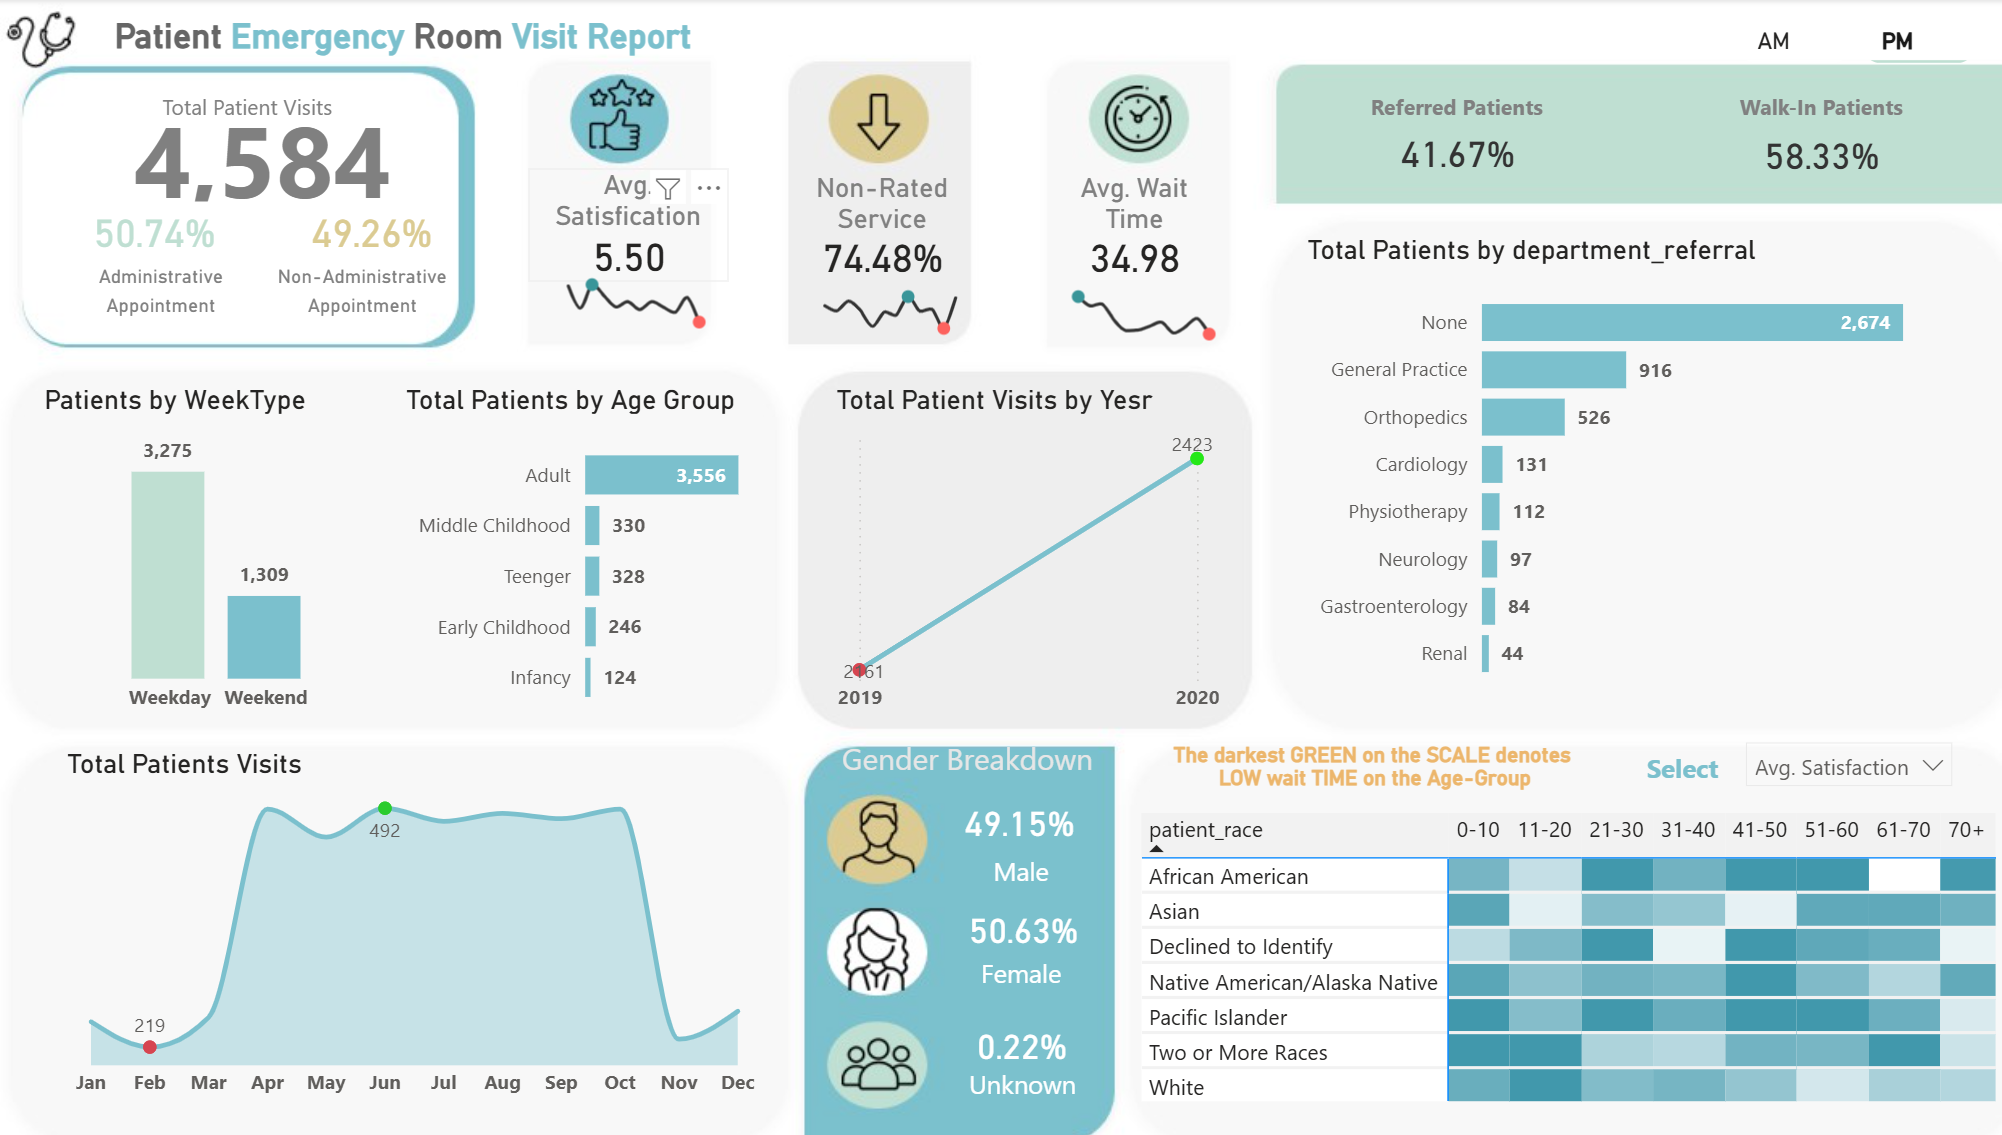

The dashboard page shown, as its layout file describes it:
{"tool":"powerbi","page":{"name":"Page 1","canvas":[1280,720],"ordinal":0},"visuals":[{"type":"cardVisual","fields":{"Data":["Calculation.Total Patients"]},"box":[76.1,32.3,208.3,108.9],"z":0},{"type":"card","fields":{"Values":["Calculation.% Administrative Schedule"]},"box":[66.9,127.2,89.8,38.3],"z":1000},{"type":"card","fields":{"Values":["Calculation.% NonAdministrative Schedule"]},"box":[189,126,118.5,39.5],"z":2000},{"type":"pivotTable","fields":{"Values":["Calculation.Average Satisfaction Score"],"Rows":["Patients Datasets.patient_race"],"Columns":["Patients Datasets.Age Group"]},"box":[726.3,505.3,553.9,192.2],"z":3000},{"type":"slicer","fields":{"Values":["Parameter.Parameter"]},"box":[1100.2,455.8,149.6,40.6],"z":4000},{"type":"clusteredBarChart","fields":{"Category":["Patients Datasets.Age Group"],"Y":["Calculation.Total Patients"]},"box":[265.5,240.8,250.7,215],"z":5000},{"type":"lineChart","title":"Total Patients Visits","fields":{"Category":["Date.Month"],"Y":["Calculation.Total Patients","Calculation.Values Max Point (Month)"]},"box":[52.5,469.7,444.9,227.9],"z":6000},{"type":"lineChart","title":"Total Patient Visits by Yesr","fields":{"Category":["Date.Year"],"Y":["Calculation.Total Patients","Calculation.Values Max Point (Year)"]},"box":[535.1,240.8,249.7,215],"z":7000},{"type":"clusteredBarChart","fields":{"Y":["Calculation.Total Patients"],"Category":["Patients Datasets.department_referral"]},"box":[830.3,146.6,421.1,292.3],"z":8000},{"type":"card","fields":{"Values":["Calculation.% Referred Patients"]},"box":[862.6,75.4,134.1,41.9],"z":9000},{"type":"card","fields":{"Values":["Calculation.% UnReferred Patients"]},"box":[1098.5,77.6,117.9,38.6],"z":10000},{"type":"card","fields":{"Values":["Calculation.HitMap Caption"]},"box":[734.2,457.8,282.4,47.6],"z":11000},{"type":"textbox","box":[61.8,157.6,108.9,51.5],"z":12000},{"type":"textbox","box":[180.3,157.6,124.5,51.5],"z":13000},{"type":"card","title":"Avg. Satisfication","fields":{"Values":["Calculation.Average Satisfaction Score"]},"box":[346.8,106,124.8,70.3],"z":14000},{"type":"card","title":"Non-Rated Service","fields":{"Values":["Calculation.% No Rating"]},"box":[508.3,108,119.9,68.4],"z":15000},{"type":"card","title":"Avg. Wait Time","fields":{"Values":["Calculation.Average Wait Time"]},"box":[672.8,108,107,68.4],"z":16000},{"type":"advancedSlicerVisual","fields":{"Values":["Patients Datasets.Moment"]},"box":[1098.8,0,160.5,45.6],"z":17000},{"type":"textbox","box":[866.2,52.6,125.7,39.5],"z":18000},{"type":"textbox","box":[1094.8,52.6,125.7,32.3],"z":19000},{"type":"clusteredColumnChart","title":"Patients by WeekType","fields":{"Y":["Calculation.Total Patients"],"Category":["Date.WeekType"]},"box":[38.6,240.8,226.9,215],"z":20000},{"type":"card","fields":{"Values":["Calculation.%Male Visit"]},"box":[603.4,558.8,106,49.5],"z":21000},{"type":"card","fields":{"Values":["Calculation.%Female Visit"]},"box":[606.4,491.5,96.1,49.5],"z":22000},{"type":"card","fields":{"Values":["Calculation.%Unkonwn Visit"]},"box":[606.4,634.1,99.1,44.6],"z":23000},{"type":"textbox","box":[76.1,52.6,189.1,43.1],"z":24000},{"type":"PBI_CV_25997FEB_F466_44FA_B562_AC4063283C4C","fields":{"measure":["Calculation.Average Satisfaction Score"],"axis":["Date.Month"]},"box":[353.5,161.9,122.1,51.5],"z":25000},{"type":"PBI_CV_25997FEB_F466_44FA_B562_AC4063283C4C","fields":{"measure":["Calculation.% No Rating"],"axis":["Date.Month"]},"box":[513.9,169.1,122.1,47.9],"z":26000},{"type":"PBI_CV_25997FEB_F466_44FA_B562_AC4063283C4C","fields":{"measure":["Calculation.Average Wait Time"],"axis":["Date.Month"]},"box":[673.1,169.1,122.1,51.5],"z":27000},{"type":"textbox","box":[527.1,457.8,189.3,35.7],"z":28000},{"type":"textbox","box":[622.2,530.1,66.4,39.6],"z":29000},{"type":"textbox","box":[620.3,594.5,70.3,39.6],"z":30000},{"type":"textbox","box":[604.4,663.9,104,49.5],"z":31000},{"type":"textbox","box":[1037.4,465.7,66.4,39.6],"z":32000},{"type":"textbox","box":[67.4,5.9,401.3,39.6],"z":33000}]}

Visuals, with their boxes in screenshot pixels (x1, y1, x2, y2), scaled from the page's 1280x720 canvas onto the 2002x1135 screenshot:
cardVisual - Calculation.Total Patients: crop(119, 51, 445, 223)
card - Calculation.% Administrative Schedule: crop(105, 201, 245, 261)
card - Calculation.% NonAdministrative Schedule: crop(296, 199, 481, 261)
pivotTable - Calculation.Average Satisfaction Score x Patients Datasets.patient_race: crop(1136, 797, 2001, 1100)
slicer - Parameter.Parameter: crop(1721, 719, 1955, 783)
clusteredBarChart - Patients Datasets.Age Group x Calculation.Total Patients: crop(415, 380, 807, 719)
"Total Patients Visits" lineChart: crop(82, 740, 778, 1100)
"Total Patient Visits by Yesr" lineChart: crop(837, 380, 1227, 719)
clusteredBarChart - Calculation.Total Patients x Patients Datasets.department_referral: crop(1299, 231, 1957, 692)
card - Calculation.% Referred Patients: crop(1349, 119, 1559, 185)
card - Calculation.% UnReferred Patients: crop(1718, 122, 1903, 183)
card - Calculation.HitMap Caption: crop(1148, 722, 1590, 797)
textbox: crop(97, 248, 267, 330)
textbox: crop(282, 248, 477, 330)
"Avg. Satisfication" card: crop(542, 167, 738, 278)
"Non-Rated Service" card: crop(795, 170, 983, 278)
"Avg. Wait Time" card: crop(1052, 170, 1220, 278)
advancedSlicerVisual - Patients Datasets.Moment: crop(1719, 0, 1970, 72)
textbox: crop(1355, 83, 1551, 145)
textbox: crop(1712, 83, 1909, 134)
"Patients by WeekType" clusteredColumnChart: crop(60, 380, 415, 719)
card - Calculation.%Male Visit: crop(944, 881, 1110, 959)
card - Calculation.%Female Visit: crop(948, 775, 1099, 853)
card - Calculation.%Unkonwn Visit: crop(948, 1000, 1103, 1070)
textbox: crop(119, 83, 415, 151)
PBI_CV_25997FEB_F466_44FA_B562_AC4063283C4C - Calculation.Average Satisfaction Score x Date.Month: crop(553, 255, 744, 336)
PBI_CV_25997FEB_F466_44FA_B562_AC4063283C4C - Calculation.% No Rating x Date.Month: crop(804, 267, 995, 342)
PBI_CV_25997FEB_F466_44FA_B562_AC4063283C4C - Calculation.Average Wait Time x Date.Month: crop(1053, 267, 1244, 348)
textbox: crop(824, 722, 1120, 778)
textbox: crop(973, 836, 1077, 898)
textbox: crop(970, 937, 1080, 1000)
textbox: crop(945, 1047, 1108, 1125)
textbox: crop(1623, 734, 1726, 797)
textbox: crop(105, 9, 733, 72)
